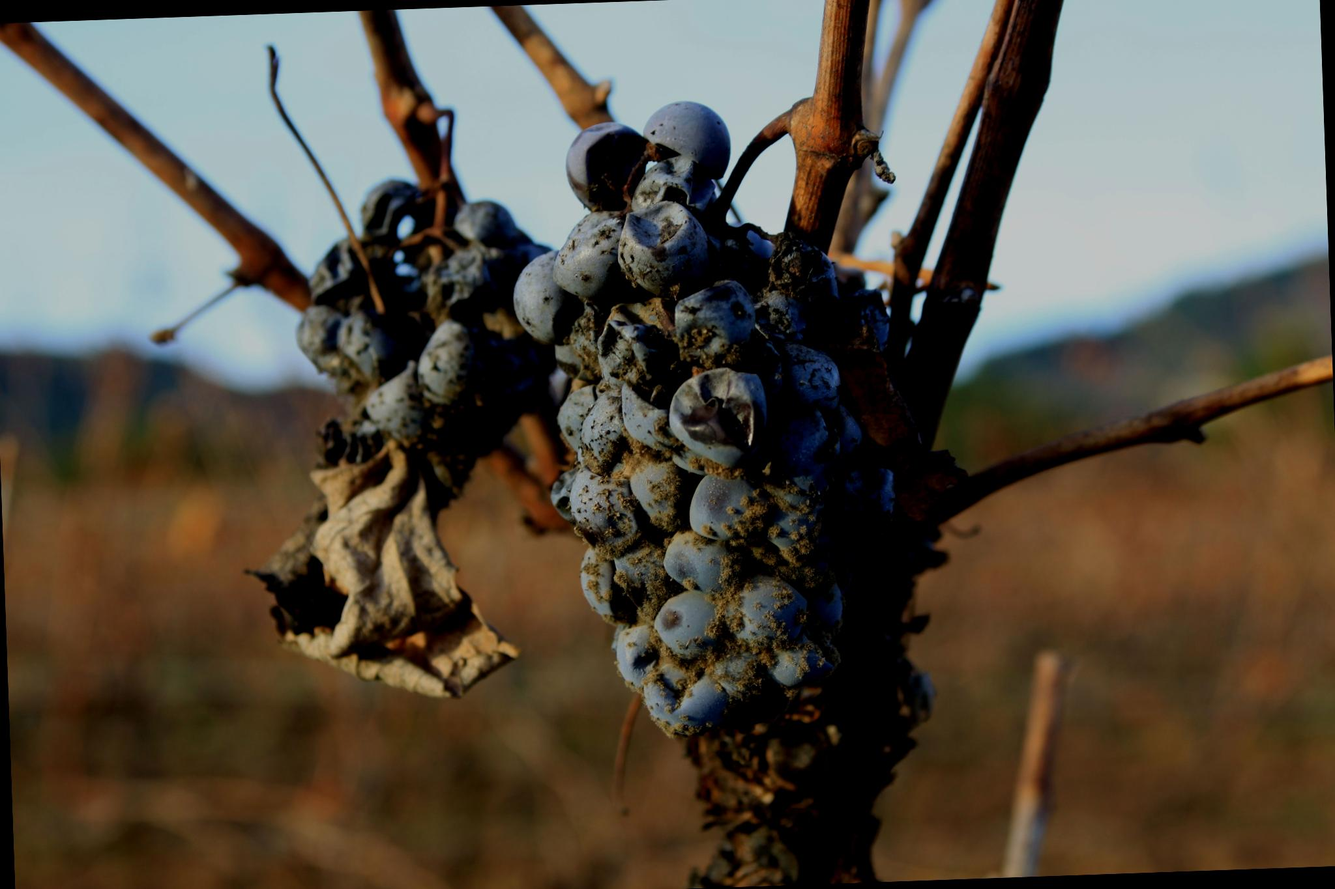Grape Rotten: (281, 91, 915, 754), (505, 93, 908, 746)
